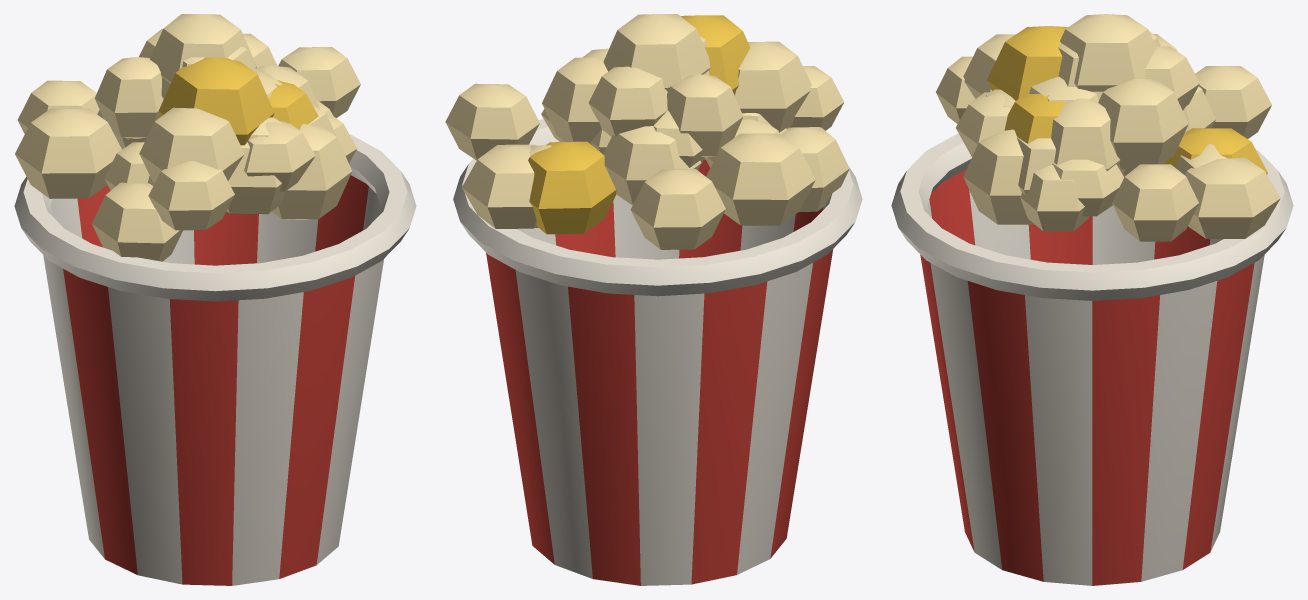
The model's file is pipoca.glb.
3 views of the same model, side by side, from view 1: azimuth 30°, elevation 25°; view 2: azimuth 150°, elevation 25°; view 3: azimuth 270°, elevation 25° (orthographic).
Visible parts, largest first — view 1: balde, pipocas; view 2: balde, pipocas; view 3: balde, pipocas.
Part boxes in pixels (x1,y1,x2,y2): balde: (14,134,416,585); pipocas: (15,14,360,261); balde: (453,118,862,585); pipocas: (445,14,849,249); balde: (891,133,1293,585); pipocas: (936,14,1280,241).
Size of the model in its own units: 0.268 by 0.3787 by 0.268.
